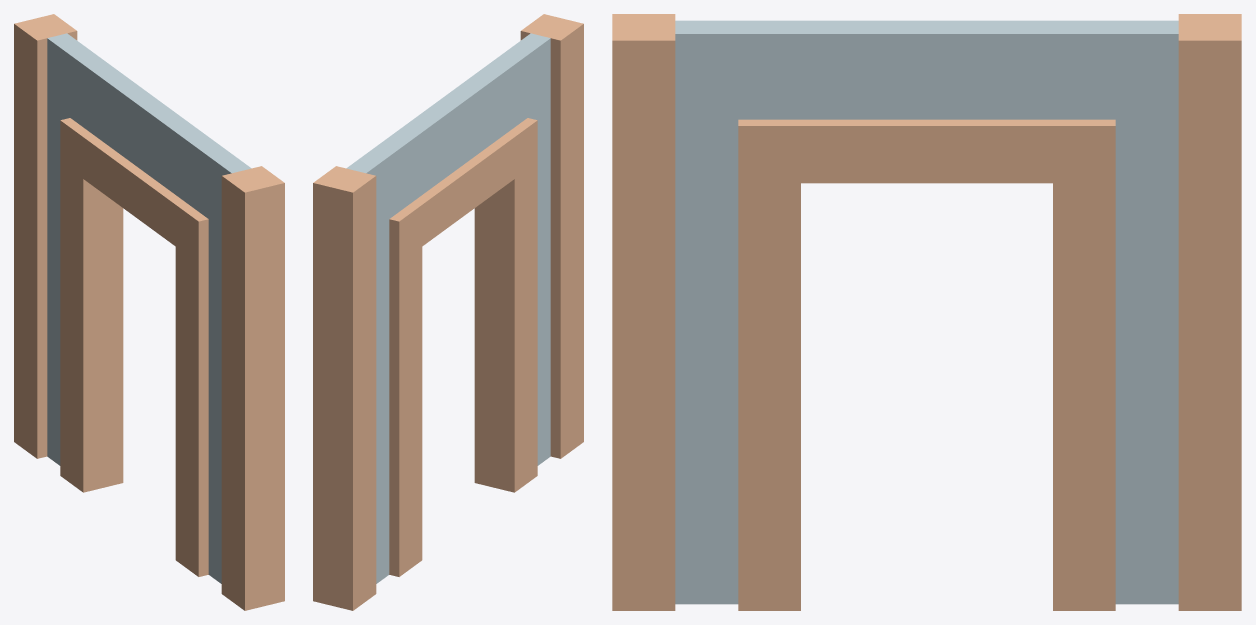
Rendered from wallDoorwaySquare.glb.
3 views of the same model, side by side, from view 1: azimuth 30°, elevation 25°; view 2: azimuth 150°, elevation 25°; view 3: azimuth 270°, elevation 25° (orthographic). The views are drawn at different scales.
Parts seen in each view (by area): view 1: wallDoorwaySquare; view 2: wallDoorwaySquare; view 3: wallDoorwaySquare.
Boxes of the visible parts, x1,y1,x2,y2 form: wallDoorwaySquare: [14, 14, 284, 610]; wallDoorwaySquare: [313, 14, 583, 610]; wallDoorwaySquare: [612, 14, 1241, 610].
Size of the model in its own units: 0.1 by 1 by 1.
